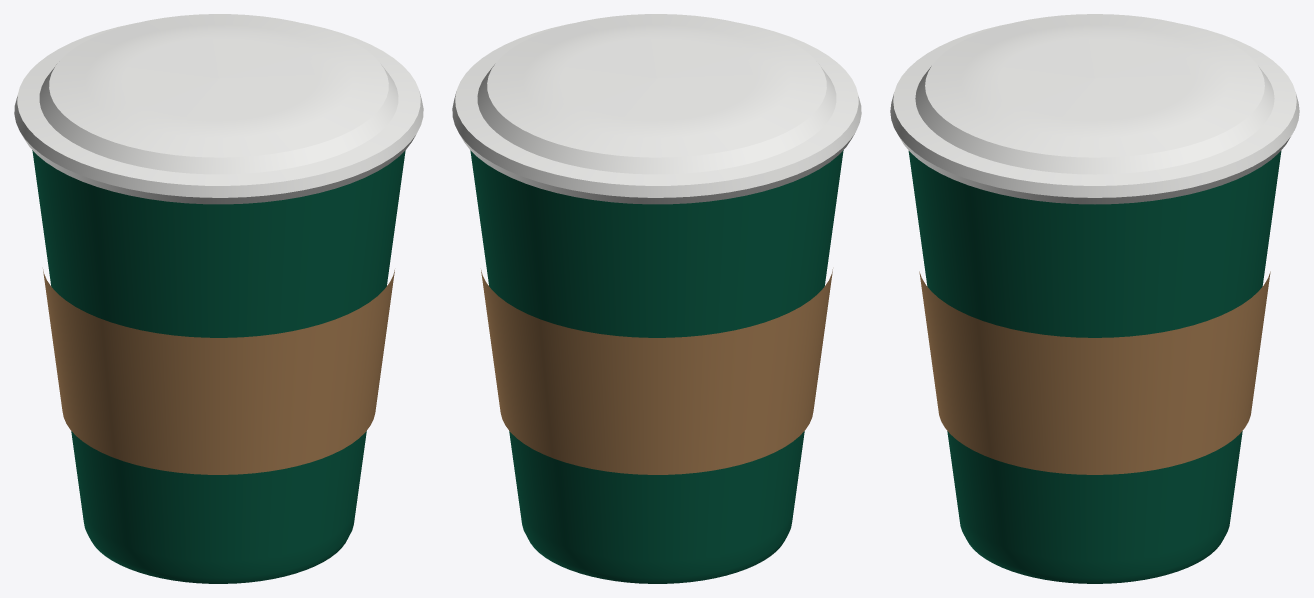
Rendered from coffee-cup.glb.
3 renders of one model, left to right at view 1: azimuth 30°, elevation 25°; view 2: azimuth 150°, elevation 25°; view 3: azimuth 270°, elevation 25°, orthographic.
Parts seen in each view (by area): view 1: Cup, Lid, Sleeve; view 2: Cup, Lid, Sleeve; view 3: Cup, Lid, Sleeve.
Boxes of the visible parts, x1,y1,x2,y2 form: Cup: [32, 150, 405, 583]; Lid: [14, 14, 423, 204]; Sleeve: [43, 269, 394, 474]; Cup: [470, 150, 843, 583]; Lid: [452, 14, 861, 204]; Sleeve: [481, 269, 832, 474]; Cup: [908, 151, 1281, 583]; Lid: [890, 14, 1299, 204]; Sleeve: [919, 271, 1270, 474].
Size of the model in its own units: 0.0954 by 0.1157 by 0.0954.
